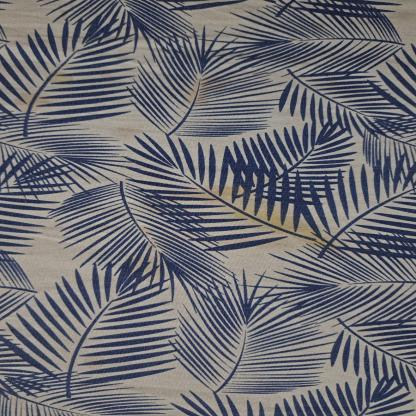spot: (192, 182, 353, 250), (21, 70, 83, 117), (162, 61, 217, 105), (102, 123, 143, 138)
